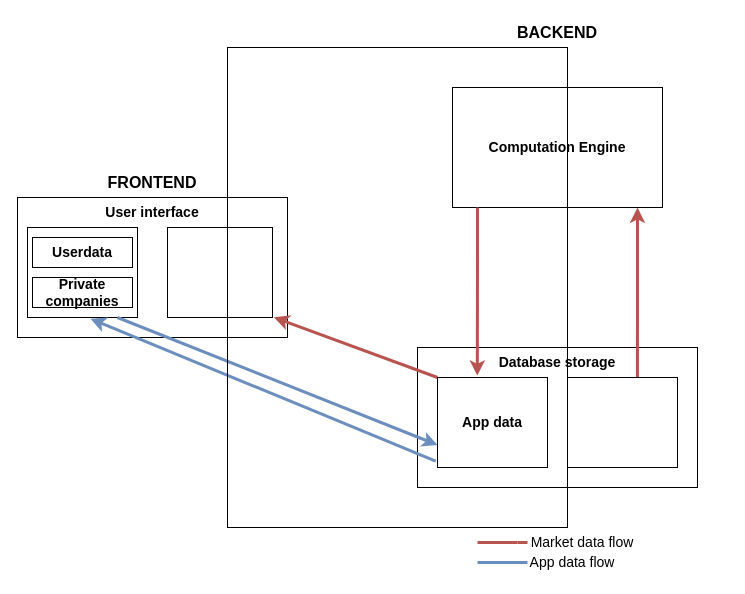
Image size: 745x594. Some labels were removed from this diagram. The shapes that lost their labels are listed below. From the top down, each one's centre as x and y in pixels, then its label:
(x=219, y=272): Football Fields
(x=622, y=422): Market data
